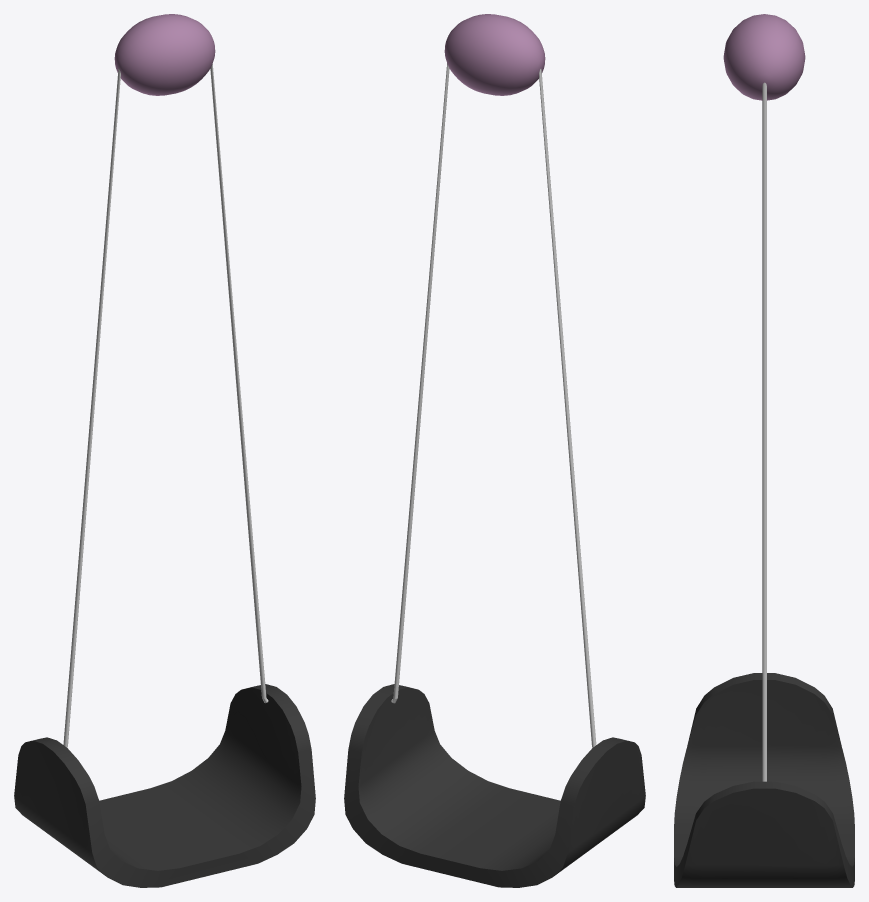
Rendered from Swing.fbx.
3 views of the same model, side by side, from view 1: azimuth 30°, elevation 25°; view 2: azimuth 150°, elevation 25°; view 3: azimuth 270°, elevation 25° (orthographic).
Parts seen in each view (by area): view 1: Swing; view 2: Swing; view 3: Swing.
Boxes of the visible parts, x1,y1,x2,y2 form: Swing: (14,14,315,887); Swing: (344,14,645,887); Swing: (674,14,854,887).
Size of the model in its own units: 84.59 by 285 by 55.98.
